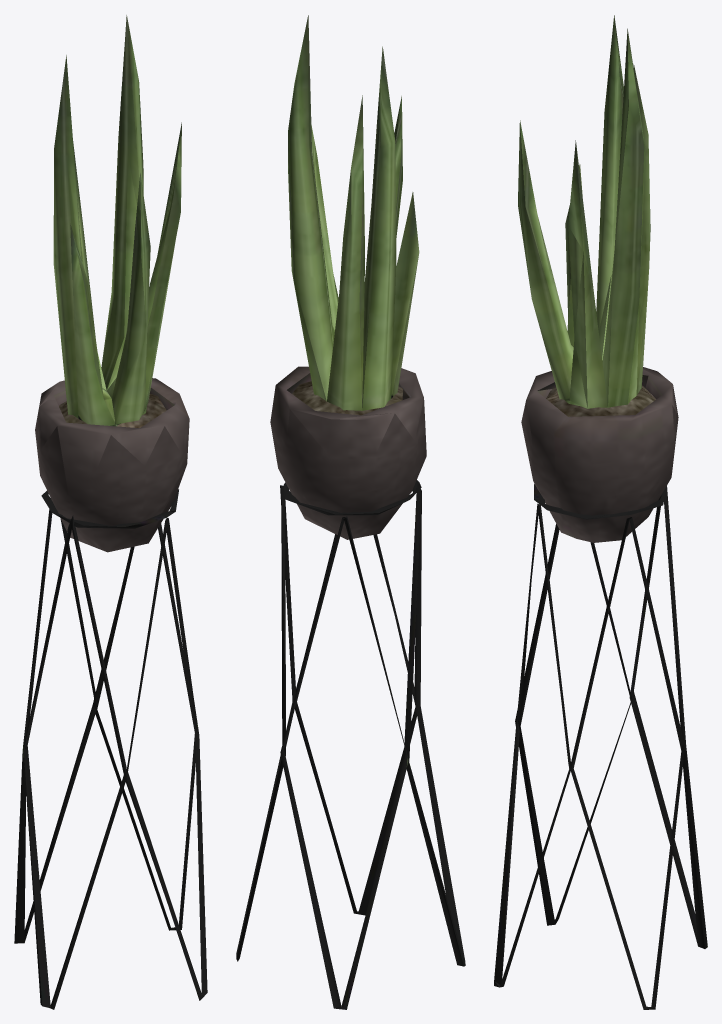
Rendered from Plant0009.obj.
The picture shows the model from 3 angles, left to right: view 1: azimuth 30°, elevation 25°; view 2: azimuth 150°, elevation 25°; view 3: azimuth 270°, elevation 25°; orthographic projection.
Size of the model in its own units: 0.307 by 1.51 by 0.306.
1 material, 1 textured.
